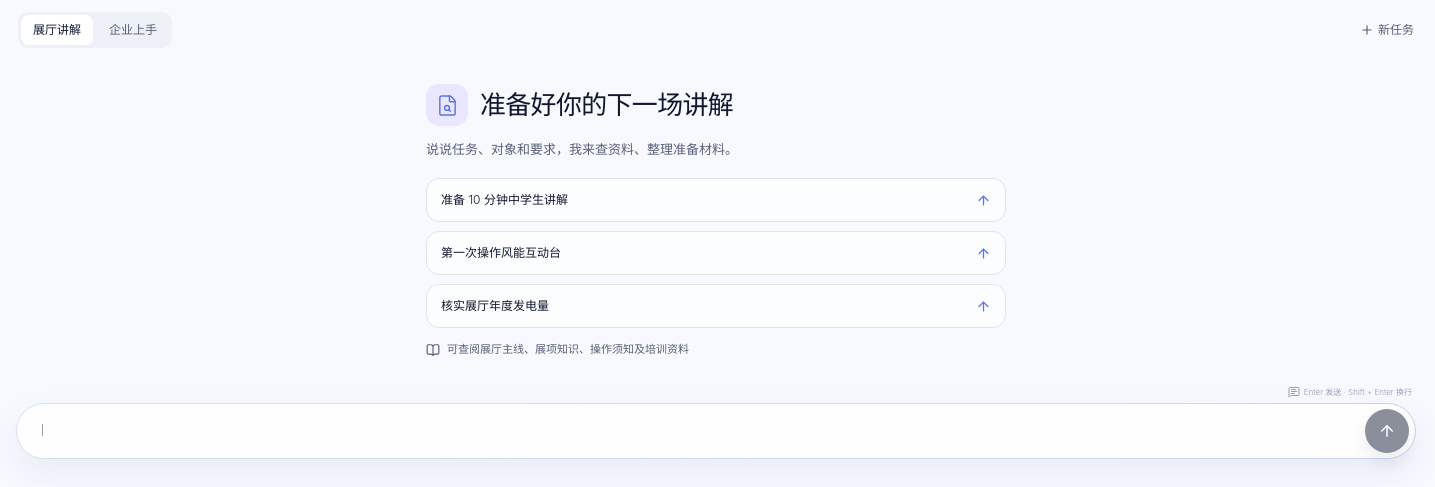
Test case: task preparation › recovers a persisted failed result after a stream interruption
The image size is (1435, 487).
Click the button "准备 10 分钟中学生讲解": (504, 200) left=426, top=178, right=1006, bottom=222
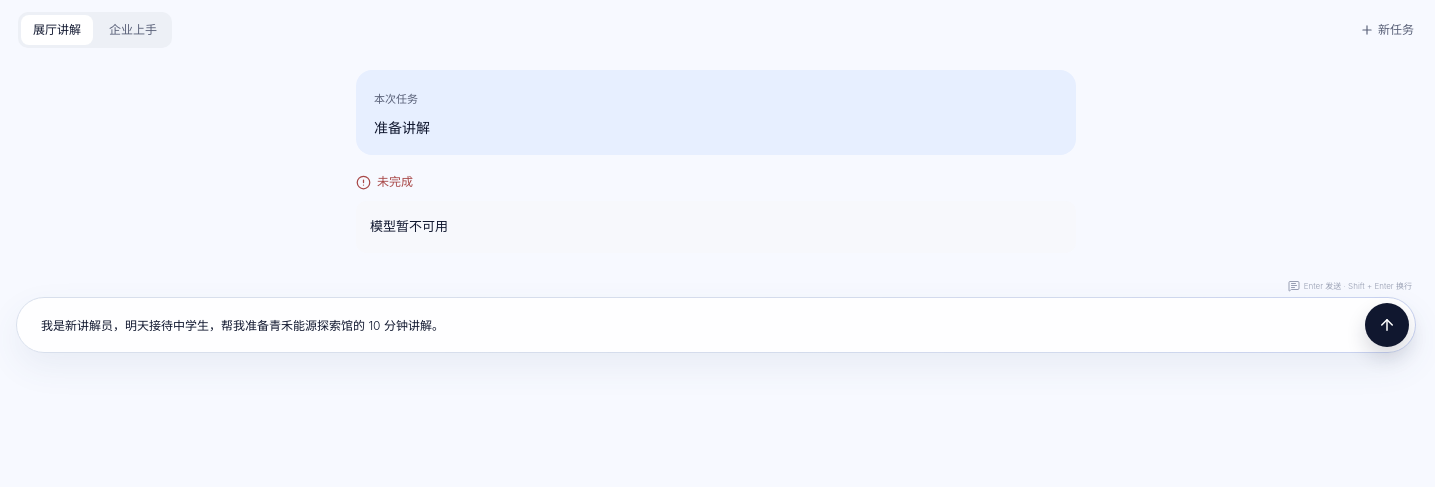
Expected: the text "模型暂不可用" is shown, left=356, top=201, right=1076, bottom=253
